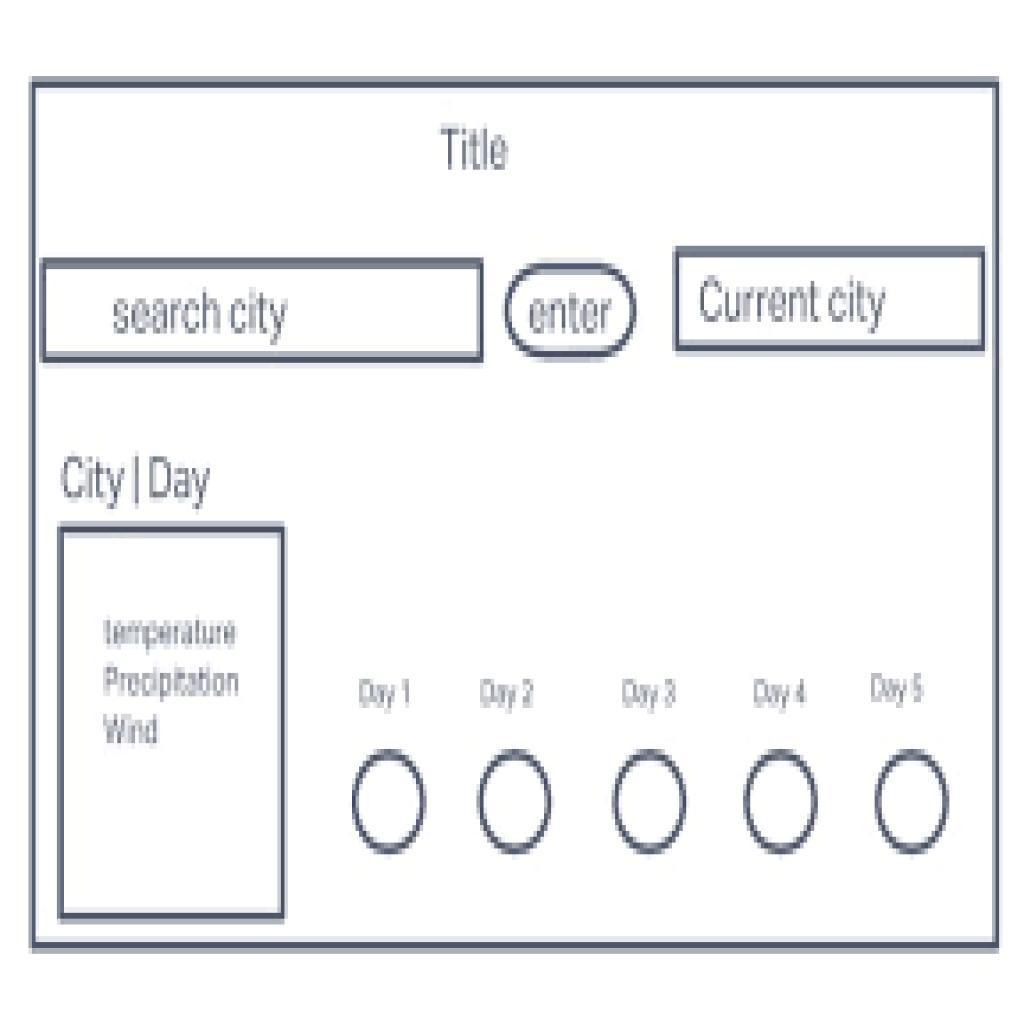button: (504, 264, 638, 363)
input: (44, 261, 485, 366), (675, 247, 987, 355)
radio: (741, 744, 824, 857), (474, 744, 552, 858), (614, 747, 692, 858), (354, 743, 428, 859), (873, 750, 952, 855)
